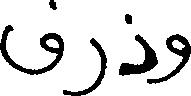X: (0, 0, 62, 79), (121, 9, 156, 88), (65, 33, 106, 95), (158, 29, 190, 87)
